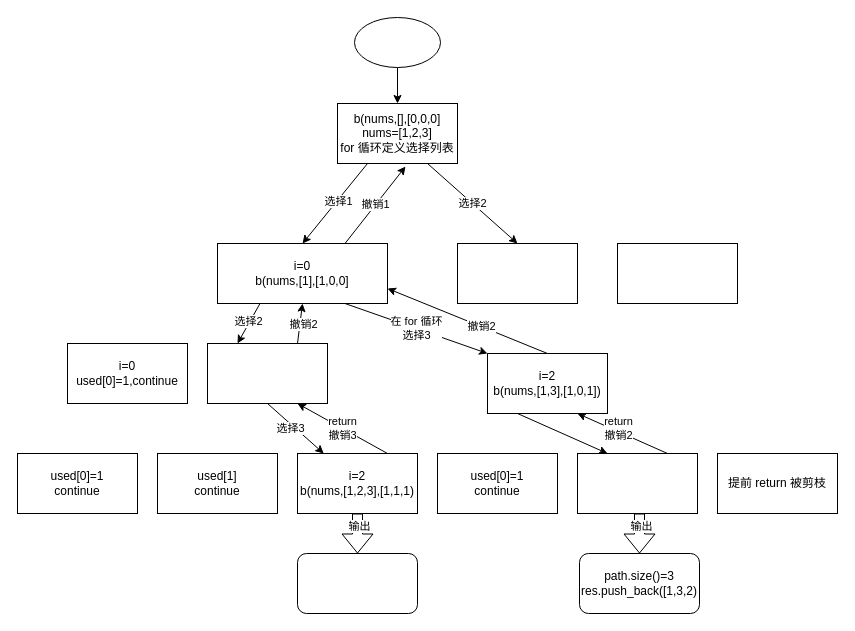
This 855x631 diagram has some shape labels left out. Each missing label, with the centre of its shape:
"i=1 b(nums,[1,2],[1,1,0])" belongs at [267,373].
"i=1 b(nums,[1,3,2],[1,1,1)" belongs at [637,483].
"i=1 b(nums,[2],[0,1,0])" belongs at [517,273].
"path.size()=3 res.push_back([1,2,3)" belongs at [357,583].
"开始" belongs at [397,42].
